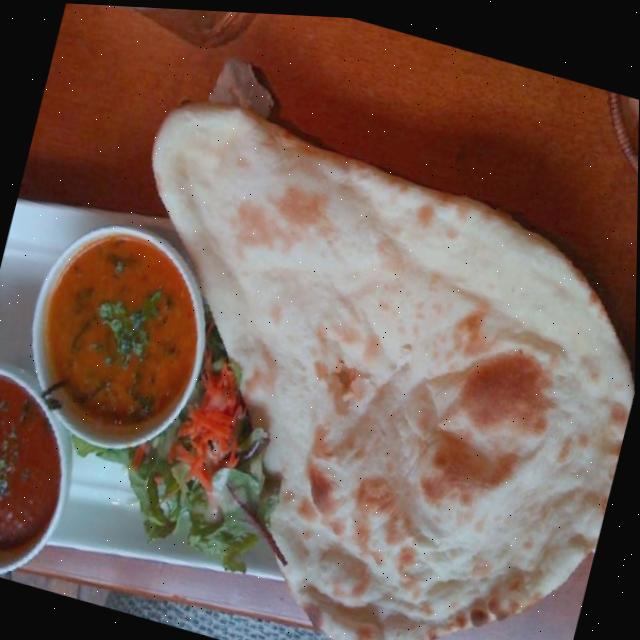蔬菜料理: (52, 307, 325, 585)
